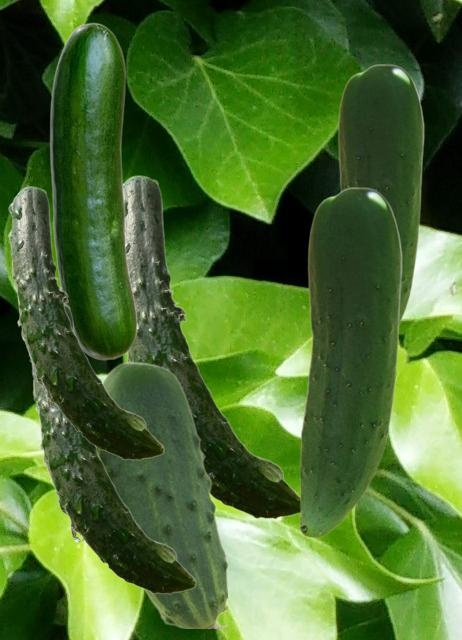cucumber: (124, 175, 299, 518), (28, 304, 195, 593), (7, 186, 163, 459), (299, 187, 401, 537), (98, 361, 226, 627), (49, 22, 136, 359), (337, 64, 423, 324)
